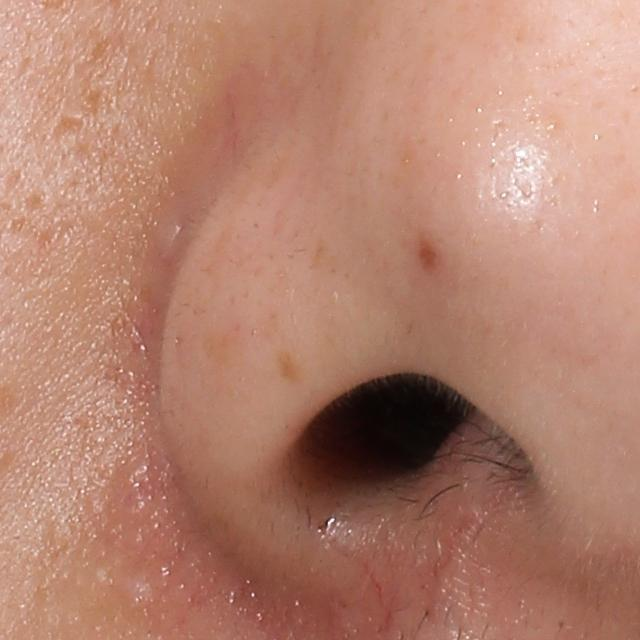atrophic_scar: (45, 112, 92, 154)
melasma: (270, 344, 316, 382)
